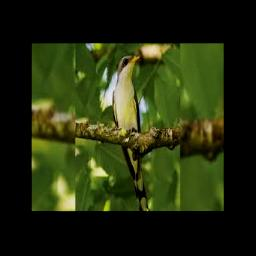Cuckoo: (113, 54, 149, 211)
